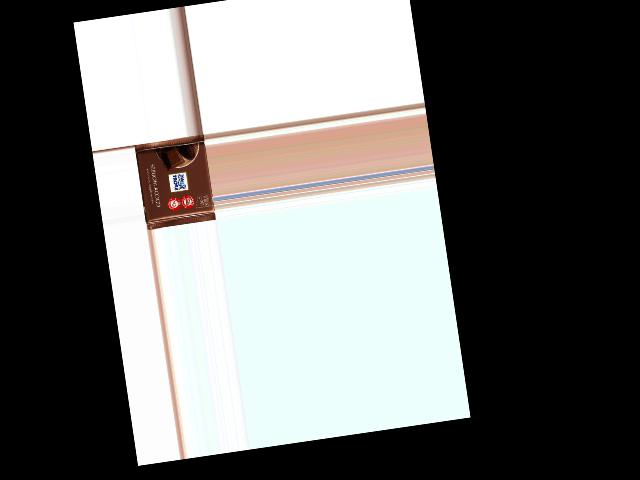chocolate: (133, 134, 215, 228)
